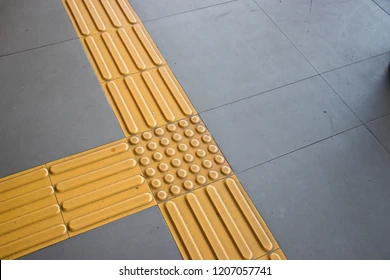piso_tatil: (1, 1, 289, 259)
piso_tatil_alerta: (127, 114, 237, 203)
piso_tatil_direcional: (46, 138, 158, 242), (160, 174, 284, 259), (101, 61, 201, 138), (1, 160, 73, 260), (79, 22, 171, 86), (61, 1, 144, 38)
piso_tatil_direcional_horizontal: (44, 136, 156, 240), (1, 158, 73, 258)
piso_tatil_direcional_vertical: (158, 172, 282, 257), (99, 59, 199, 136), (77, 20, 169, 84), (59, 1, 142, 37)
